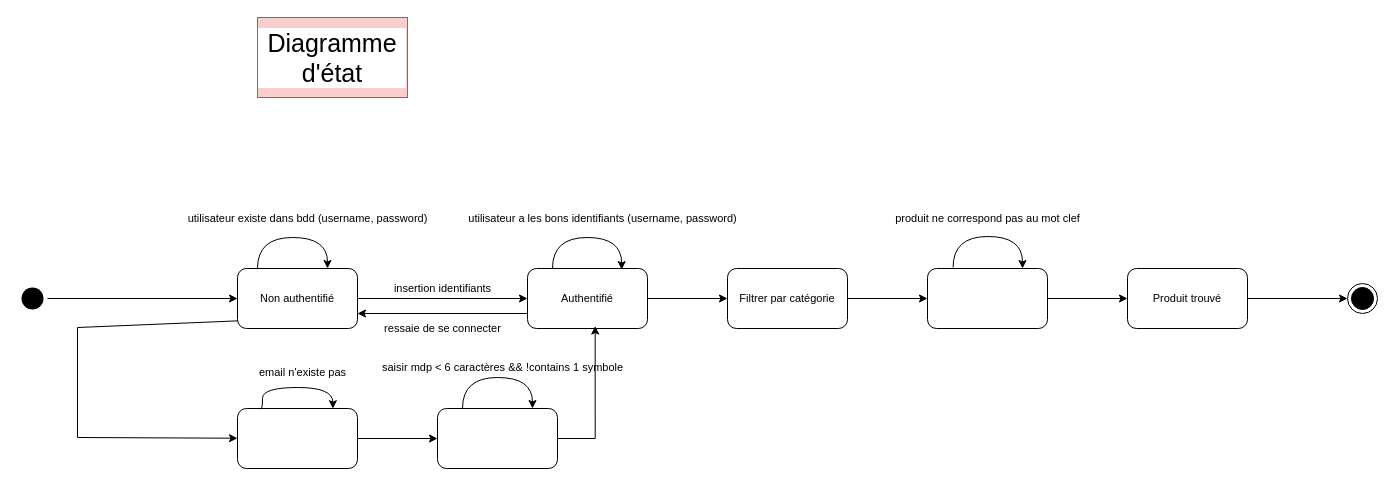
The diagram is 1395 pixels wide and 486 high, and some of its shapes have lost their labels. Here are the shapes that lost their labels. From the top down, the centre of each, then its label:
At pixel 987 298: "Chercher un produit".
At pixel 297 438: "Email insérée pour s'inscrire".
At pixel 497 438: "Insertion mot de passe".
